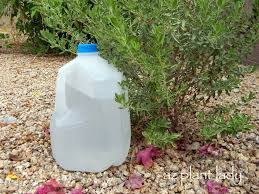milk: (53, 43, 131, 171)
